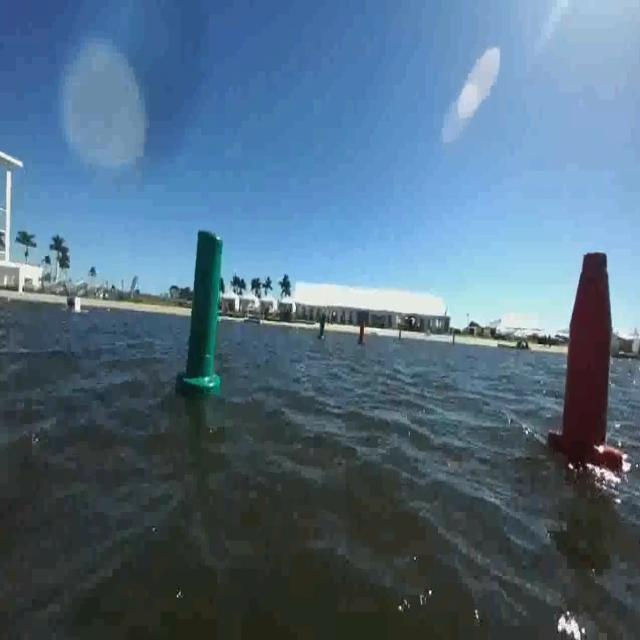green-column-buoy: (181, 229, 227, 398)
red-column-buoy: (549, 248, 623, 474)
